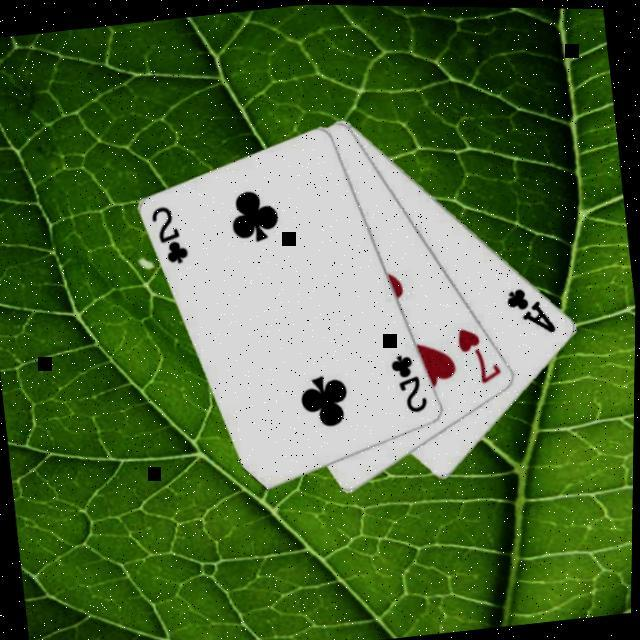2C: (148, 198, 195, 268), (388, 346, 434, 416)
7H: (454, 317, 508, 387)
AC: (502, 276, 562, 338)
